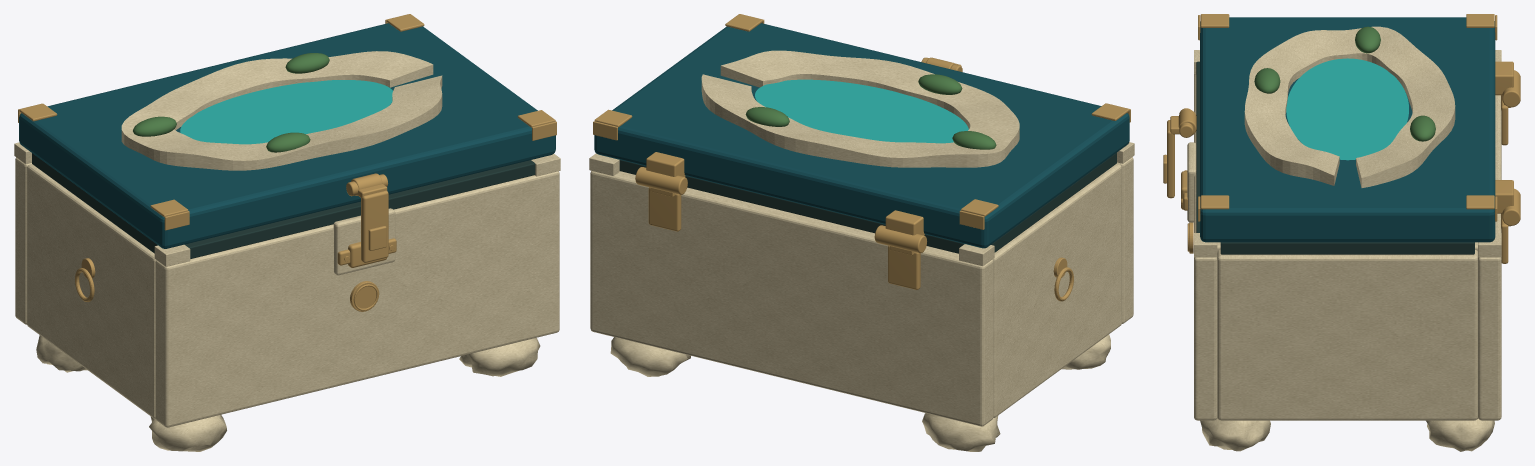
The model's file is maldives.glb.
3 views of the same model, side by side, from view 1: azimuth 30°, elevation 25°; view 2: azimuth 150°, elevation 25°; view 3: azimuth 270°, elevation 25° (orthographic).
Parts seen in each view (by area): view 1: Sand / front or rear, Lid / polished slab, Sand / side, Faro / raised sand reef, Lagoon / inset, Seam / long, Sandstone foot, Sandstone foot.002, Sand / front or rear.001, Latch / lifting hasp, Sand / clasp seat, Seam / side (+6 smaller); view 2: Sand / front or rear.001, Lid / polished slab, Sand / side, Faro / raised sand reef, Lagoon / inset, Seam / long.001, Sandstone foot.001, Sand / front or rear, Sandstone foot.003, Seam / side, Hinge / fixed mount.001, Hinge / fixed mount (+10 smaller); view 3: Sand / side.001, Lid / polished slab, Faro / raised sand reef, Lagoon / inset, Sand / front or rear.001, Sand / front or rear, Seam / side.001, Sandstone foot.002, Sandstone foot.003, Sand / clasp seat, Seam / long, Hinge / moving leaf (+13 smaller).
Boxes of the visible parts, box(x1,y1,x2,y2) form: Sand / front or rear: box(155, 171, 559, 427); Lid / polished slab: box(19, 23, 555, 248); Sand / side: box(27, 164, 156, 418); Faro / raised sand reef: box(121, 51, 442, 170); Lagoon / inset: box(180, 80, 392, 144); Seam / long: box(184, 160, 535, 258); Sandstone foot: box(149, 415, 226, 451); Sandstone foot.002: box(459, 337, 540, 376); Sand / front or rear.001: box(15, 157, 31, 324); Latch / lifting hasp: box(361, 190, 388, 262); Sand / clasp seat: box(333, 208, 395, 275); Seam / side: box(32, 153, 157, 253); Sand / front or rear.001: box(590, 171, 993, 426); Lid / polished slab: box(594, 23, 1129, 248); Sand / side: box(993, 163, 1121, 417); Faro / raised sand reef: box(701, 50, 1019, 167); Lagoon / inset: box(755, 79, 968, 143); Seam / long.001: box(619, 160, 964, 253); Sandstone foot.001: box(922, 413, 1000, 451); Sand / front or rear: box(1117, 157, 1133, 323); Sandstone foot.003: box(610, 337, 690, 376); Seam / side: box(991, 153, 1116, 252); Hinge / fixed mount.001: box(648, 187, 681, 231); Hinge / fixed mount: box(888, 245, 920, 289); Sand / side.001: box(1217, 249, 1477, 420); Lid / polished slab: box(1200, 17, 1495, 242); Faro / raised sand reef: box(1244, 26, 1455, 187); Lagoon / inset: box(1286, 58, 1408, 160); Sand / front or rear.001: box(1478, 95, 1501, 420); Sand / front or rear: box(1194, 74, 1217, 420); Seam / side.001: box(1220, 242, 1474, 254); Sandstone foot.002: box(1200, 418, 1270, 451); Sandstone foot.003: box(1426, 418, 1494, 451); Sand / clasp seat: box(1187, 142, 1196, 222); Seam / long: box(1196, 61, 1199, 232); Hinge / moving leaf: box(1495, 61, 1513, 95).
Bounding box in the file's own units: 3.79 × 2.47 × 2.88.
Materials: 6 (1 with a texture image).
